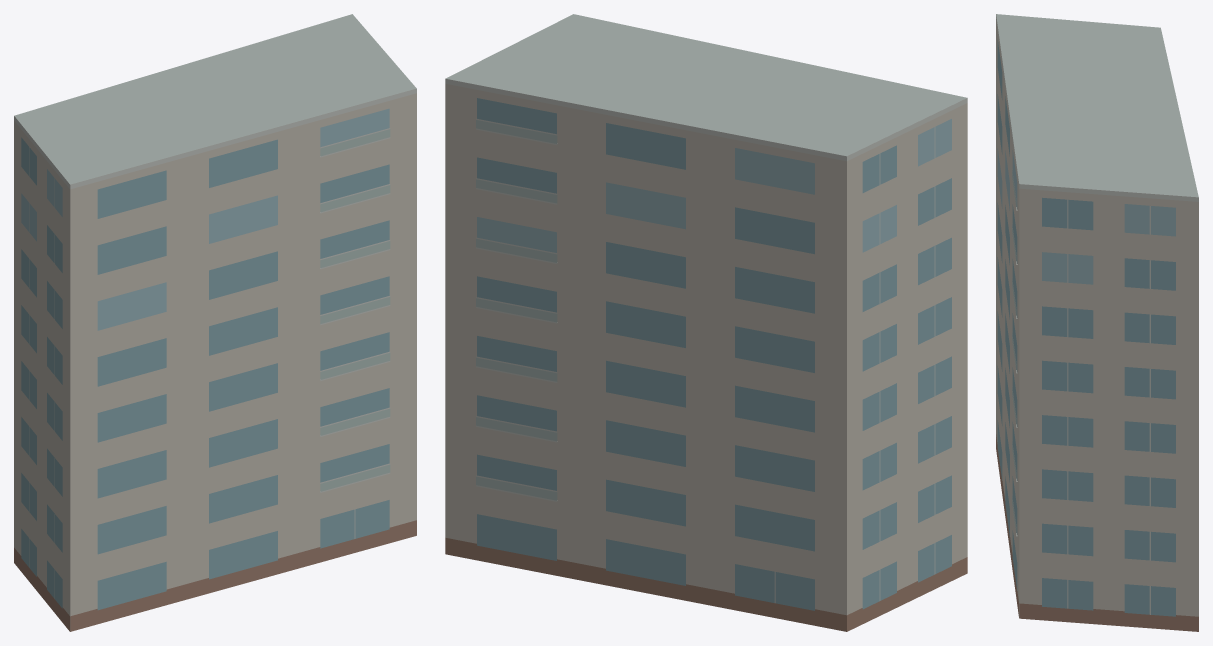
The model's file is survey-upis-32653485.glb.
The picture shows the model from 3 angles, left to right: view 1: azimuth 30°, elevation 25°; view 2: azimuth 150°, elevation 25°; view 3: azimuth 270°, elevation 25°; orthographic projection. The views are drawn at different scales.
Visible parts, largest first — view 1: survey-upis-32653485.tmp; view 2: survey-upis-32653485.tmp; view 3: survey-upis-32653485.tmp.
Part boxes in pixels (<box>): survey-upis-32653485.tmp: <box>14,14,416,631</box>; survey-upis-32653485.tmp: <box>445,14,967,631</box>; survey-upis-32653485.tmp: <box>996,14,1198,631</box>.
Size of the model in its own units: 20.92 by 23.1 by 9.78.
